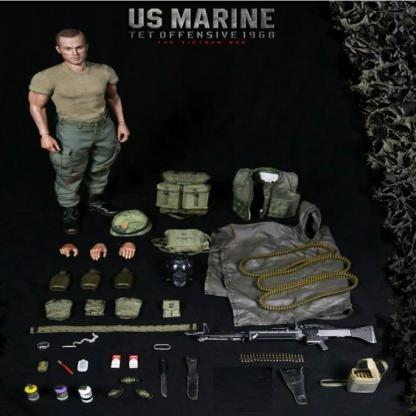Grenade: (135, 387, 155, 403), (106, 385, 126, 400), (119, 375, 141, 385)
Gun: (182, 320, 378, 352)
Knife: (158, 356, 170, 399)
